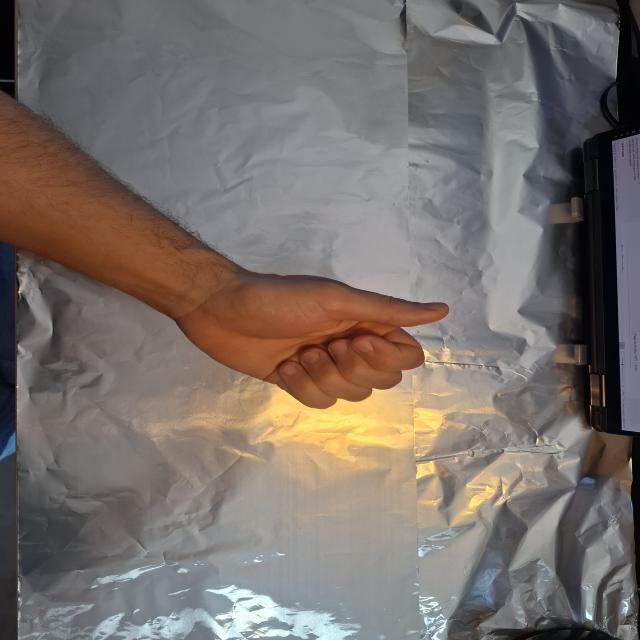glove_off: (178, 272, 452, 412)
